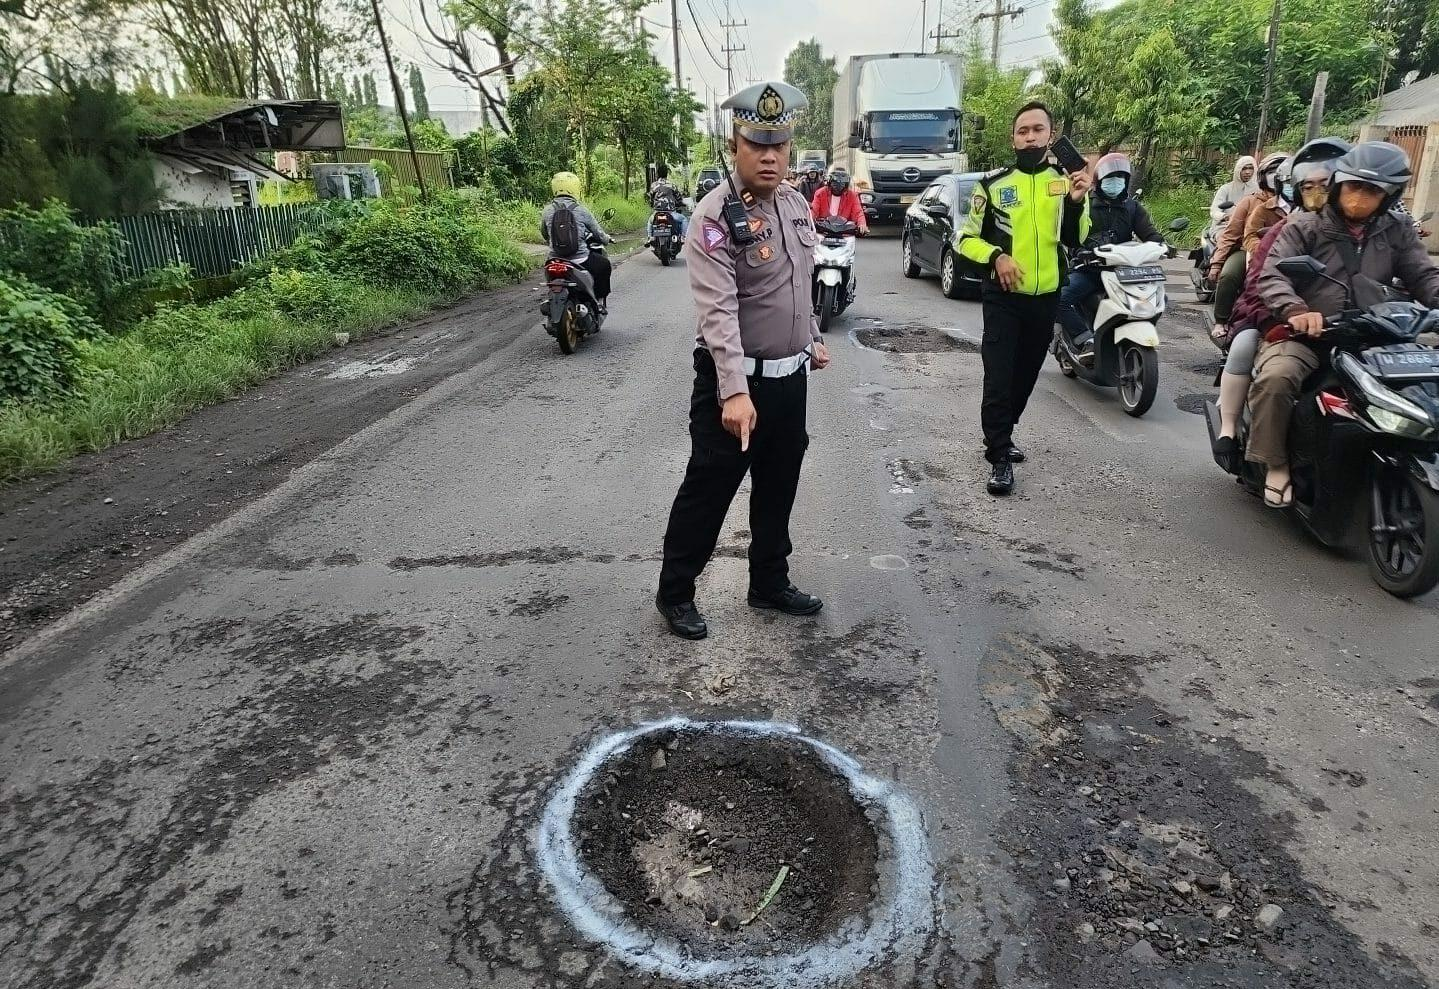Pothole: (586, 723, 881, 964), (1067, 753, 1240, 964)
